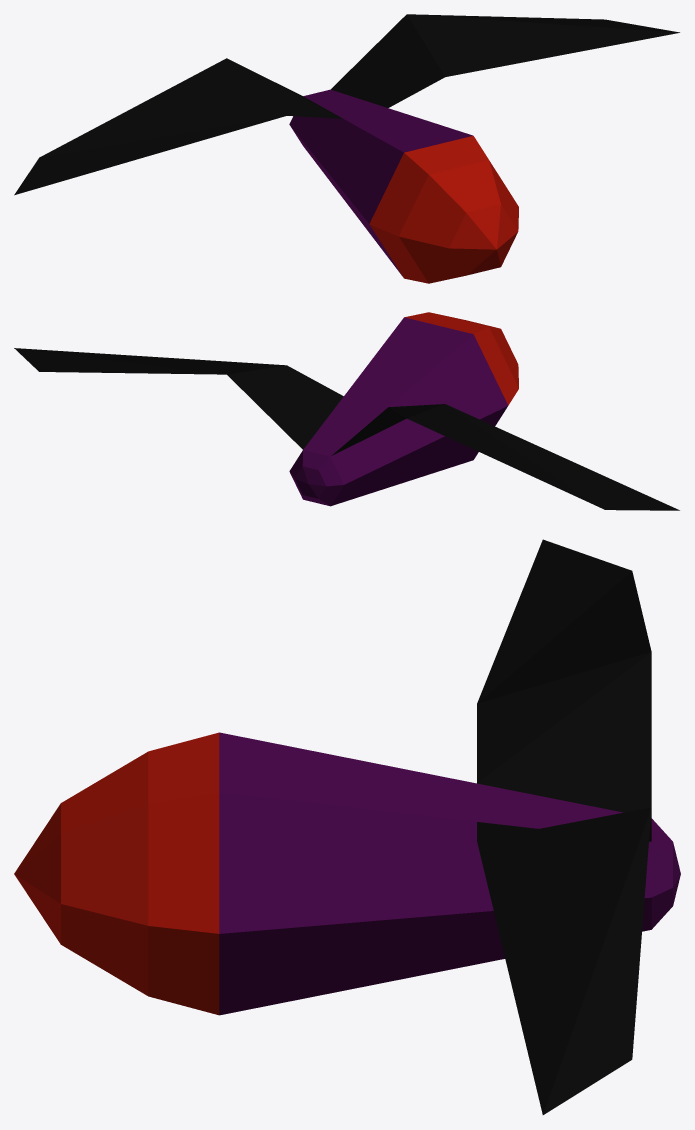
The model's file is Seeker.obj.
3 views of the same model, one above another, from view 1: azimuth 30°, elevation 25°; view 2: azimuth 150°, elevation 25°; view 3: azimuth 270°, elevation 25° (orthographic). The views are drawn at different scales.
Parts seen in each view (by area): view 1: Seeker_Sphere_Material.002, Seeker_Sphere_Material.001, Seeker_Sphere_Material; view 2: Seeker_Sphere_Material, Seeker_Sphere_Material.002, Seeker_Sphere_Material.001; view 3: Seeker_Sphere_Material.002, Seeker_Sphere_Material, Seeker_Sphere_Material.001.
Boxes of the visible parts, x1=… form: Seeker_Sphere_Material.002: x1=14, y1=14, x2=679, y2=195; Seeker_Sphere_Material.001: x1=369, y1=135, x2=518, y2=283; Seeker_Sphere_Material: x1=289, y1=89, x2=472, y2=276; Seeker_Sphere_Material: x1=289, y1=317, x2=508, y2=506; Seeker_Sphere_Material.002: x1=14, y1=348, x2=679, y2=510; Seeker_Sphere_Material.001: x1=405, y1=312, x2=518, y2=405; Seeker_Sphere_Material.002: x1=477, y1=539, x2=651, y2=1114; Seeker_Sphere_Material: x1=219, y1=732, x2=680, y2=1015; Seeker_Sphere_Material.001: x1=14, y1=732, x2=219, y2=1015.
Bounding box in the file's own units: 12.9 × 2.67 × 6.31.
